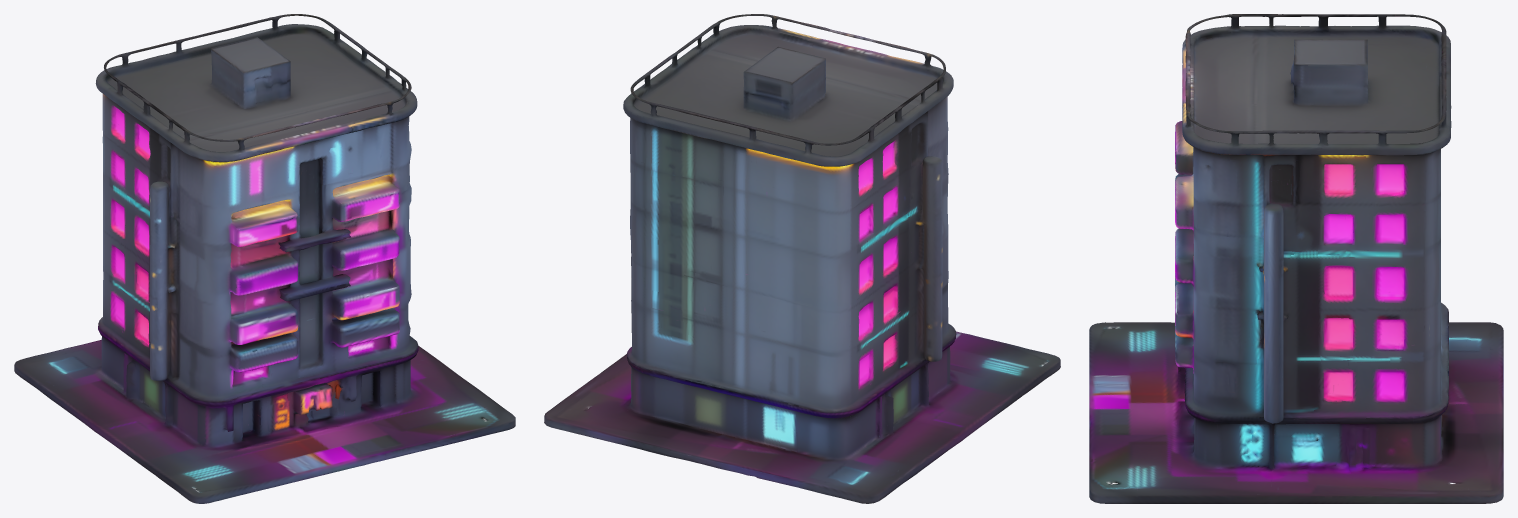
The model's file is base_basic_shaded.fbx.
3 views of the same model, side by side, from view 1: azimuth 30°, elevation 25°; view 2: azimuth 150°, elevation 25°; view 3: azimuth 270°, elevation 25° (orthographic). The views are drawn at different scales.
Visible parts, largest first — view 1: model; view 2: model; view 3: model.
Boxes of the visible parts, bbox=[...] form: model: bbox=[14, 14, 515, 503]; model: bbox=[544, 14, 1060, 503]; model: bbox=[1089, 14, 1503, 503].
Size of the model in its own units: 176 by 172 by 177.
